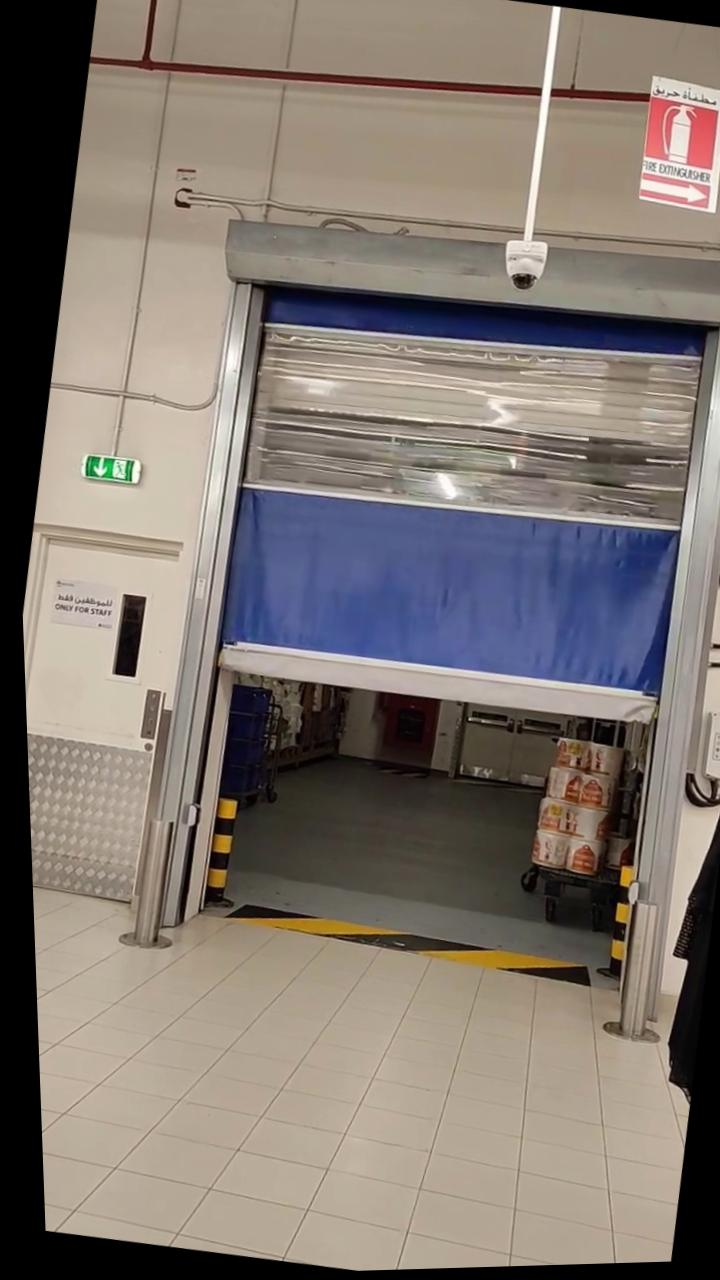Strip: (228, 880, 582, 1004)
